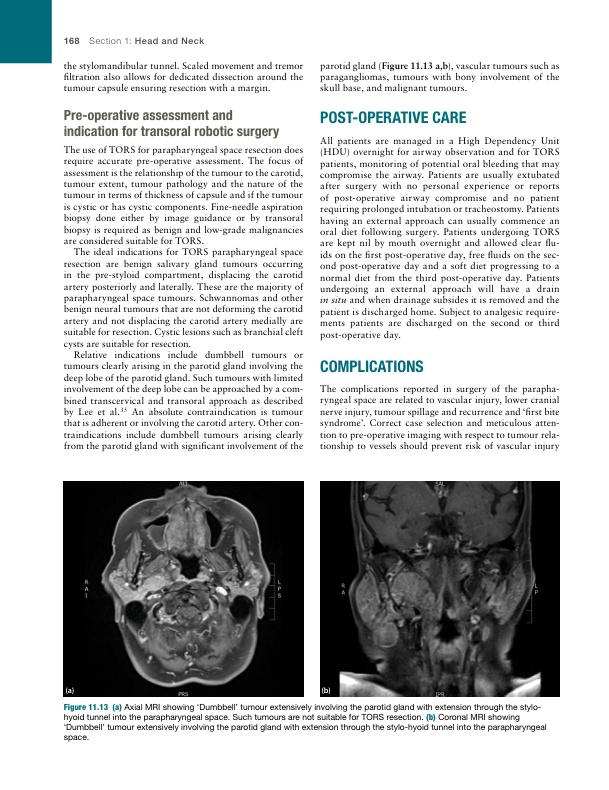caption: (62, 702, 548, 744), (65, 686, 75, 695), (321, 686, 331, 695)
header: (88, 35, 206, 46)
image: (62, 480, 305, 698), (320, 480, 560, 698)
section-heading: (318, 109, 469, 125), (318, 359, 425, 374)
sub-section-heading: (62, 107, 280, 140)
text: (62, 145, 304, 453), (319, 135, 562, 342), (319, 384, 561, 454), (62, 59, 305, 95), (318, 59, 560, 95)
